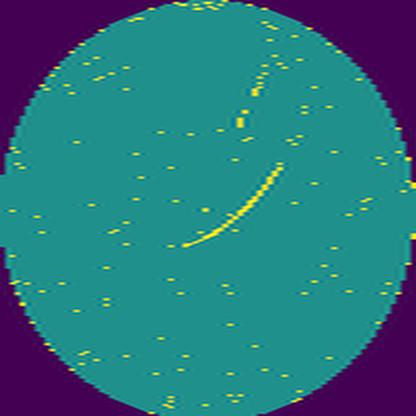Scratch: (177, 160, 285, 250)
